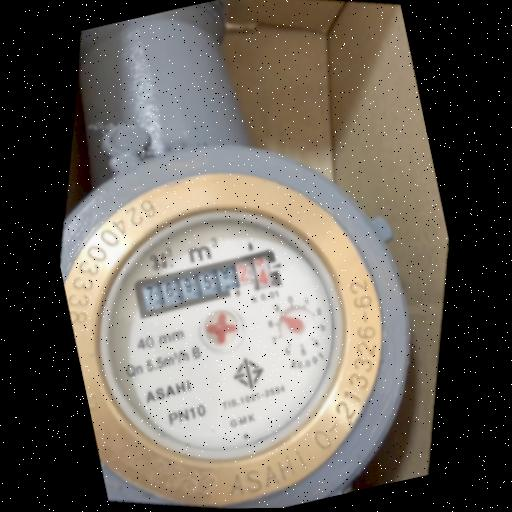2: (236, 261, 253, 286)
4: (252, 254, 272, 287)
5: (198, 270, 216, 295)
6: (161, 279, 179, 305)
7: (141, 283, 160, 309)
9: (218, 266, 236, 291), (180, 275, 197, 300)
border_water_meter_number: (132, 246, 285, 320)
